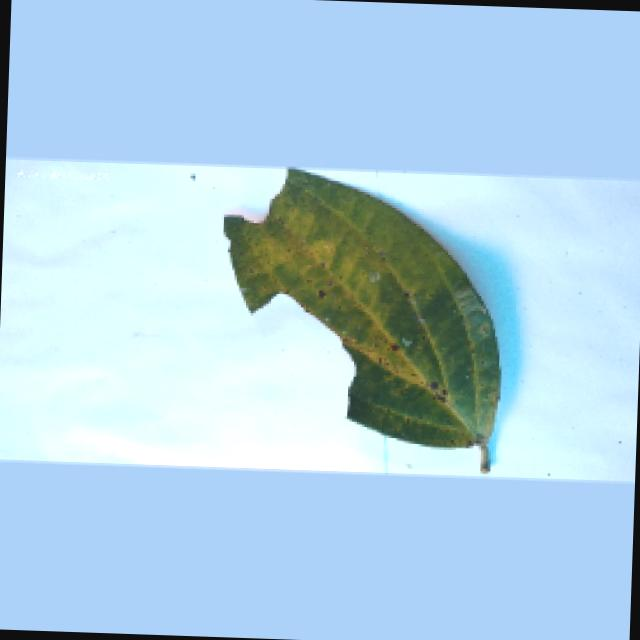slow-decline: (208, 172, 518, 472)
